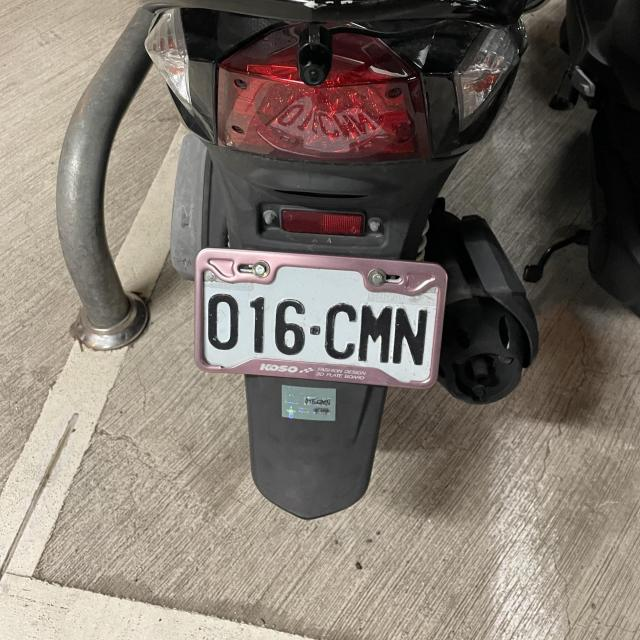W: (190, 247, 448, 393)
